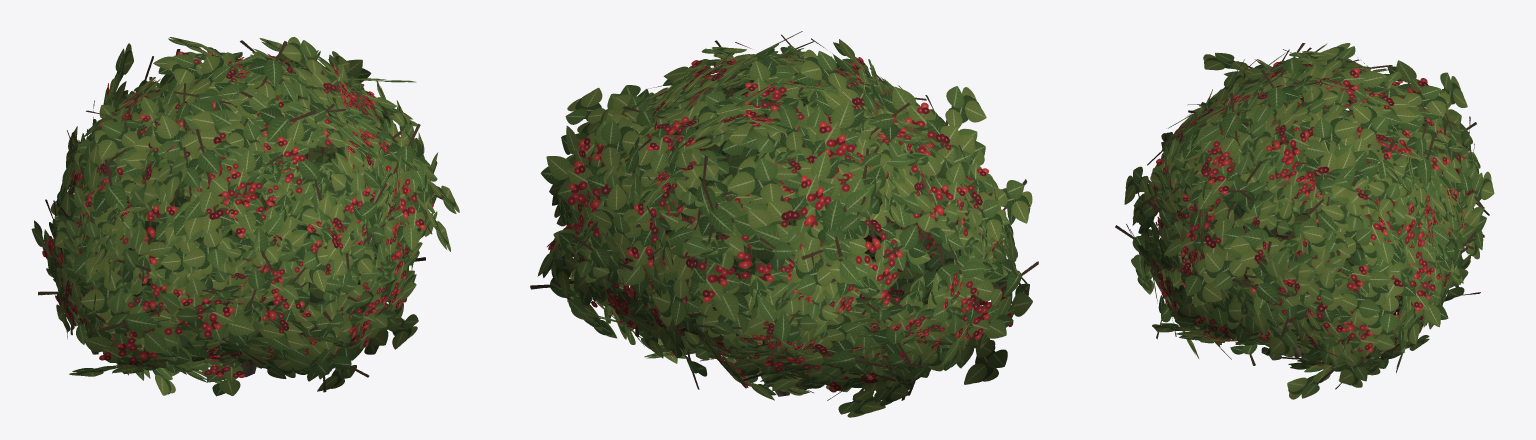
Rendered from bush.glb.
The picture shows the model from 3 angles, left to right: view 1: azimuth 30°, elevation 25°; view 2: azimuth 150°, elevation 25°; view 3: azimuth 270°, elevation 25°; orthographic projection. The views are drawn at different scales.
Parts seen in each view (by area): view 1: bush; view 2: bush; view 3: bush.
Part boxes in pixels (x1,y1,x2,y2): bush: (31,37,459,396); bush: (530,31,1038,417); bush: (1115,43,1494,399).
Size of the model in its own units: 1.52 by 1.23 by 1.41.
2 materials, 2 textured.
